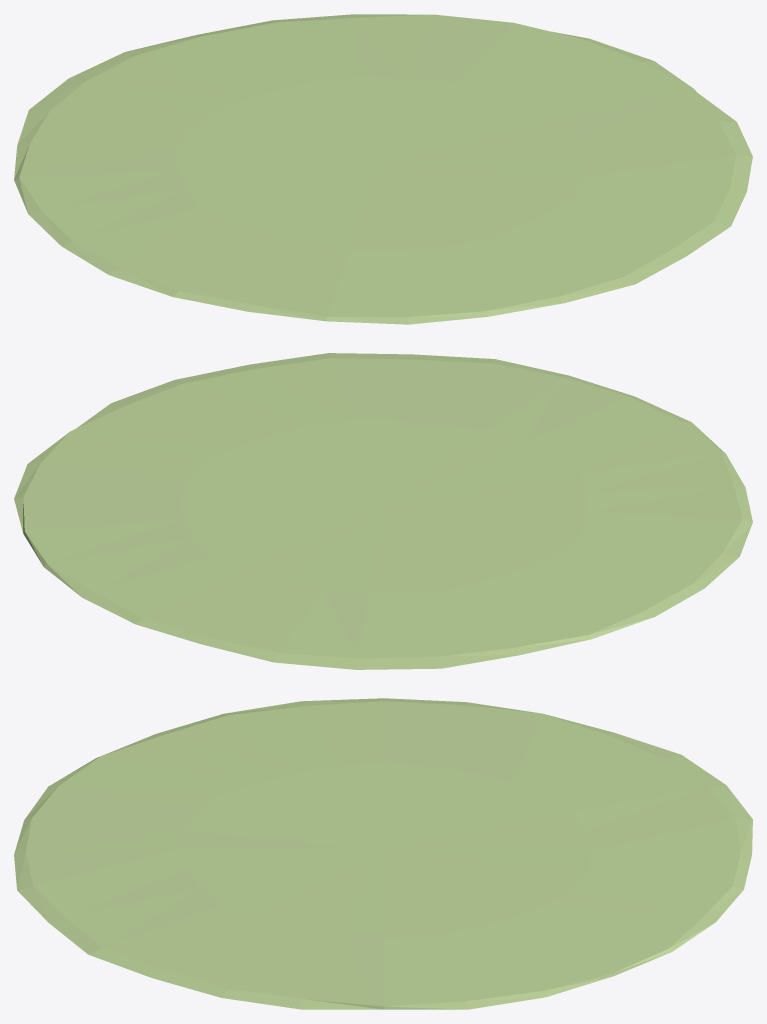
File: meadow_disc.glb
3 renders of one model, top to bottom at view 1: azimuth 30°, elevation 25°; view 2: azimuth 150°, elevation 25°; view 3: azimuth 270°, elevation 25°, orthographic.
Visible parts, largest first — view 1: meadow-disc; view 2: meadow-disc; view 3: meadow-disc.
Boxes of the visible parts, x1,y1,x2,y2 form: meadow-disc: (14,14,752,324); meadow-disc: (14,353,752,669); meadow-disc: (14,698,752,1009).
Bounding box in the file's own units: 13.33 × 0.1012 × 13.37.
